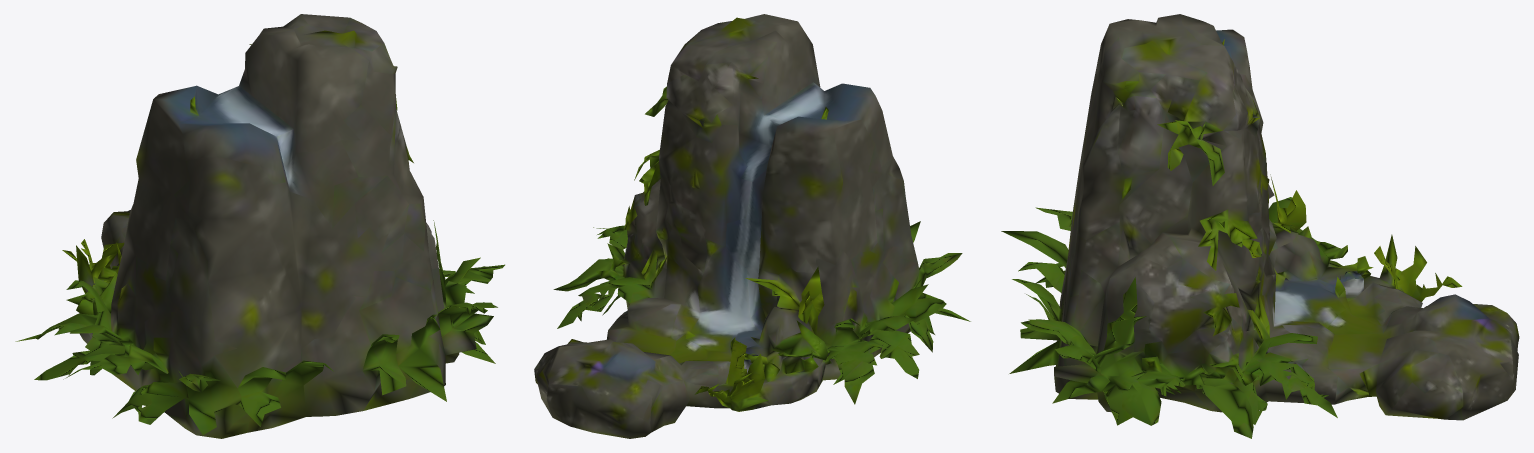
File: boulder.glb
The picture shows the model from 3 angles, left to right: view 1: azimuth 30°, elevation 25°; view 2: azimuth 150°, elevation 25°; view 3: azimuth 270°, elevation 25°; orthographic projection. The views are drawn at different scales.
Parts seen in each view (by area): view 1: tripo_node_006220f6-adb8-42aa-b27c-820454401449; view 2: tripo_node_006220f6-adb8-42aa-b27c-820454401449; view 3: tripo_node_006220f6-adb8-42aa-b27c-820454401449.
Part boxes in pixels (left/top/right/bottom): tripo_node_006220f6-adb8-42aa-b27c-820454401449: left=15, top=14, right=504, bottom=438; tripo_node_006220f6-adb8-42aa-b27c-820454401449: left=534, top=14, right=970, bottom=438; tripo_node_006220f6-adb8-42aa-b27c-820454401449: left=1001, top=14, right=1519, bottom=438.
Bounding box in the file's own units: 1.07 × 0.7995 × 1.09.
1 material, 1 textured.
